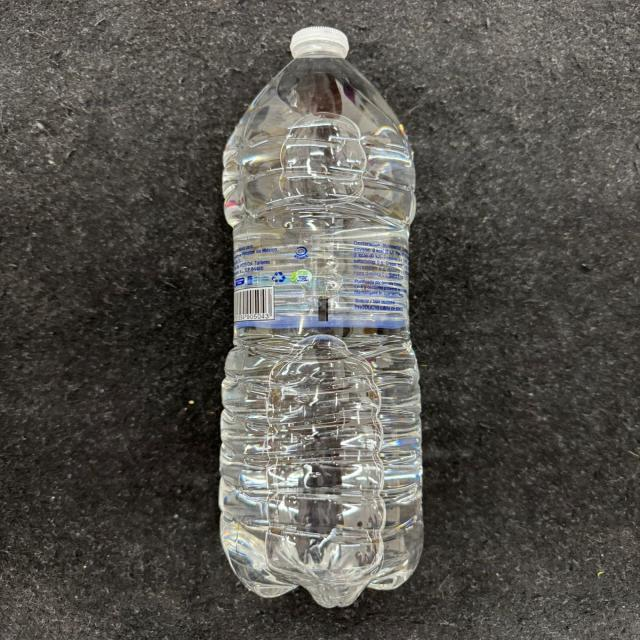AGUA BIOLEVE 1: (216, 24, 435, 606)
